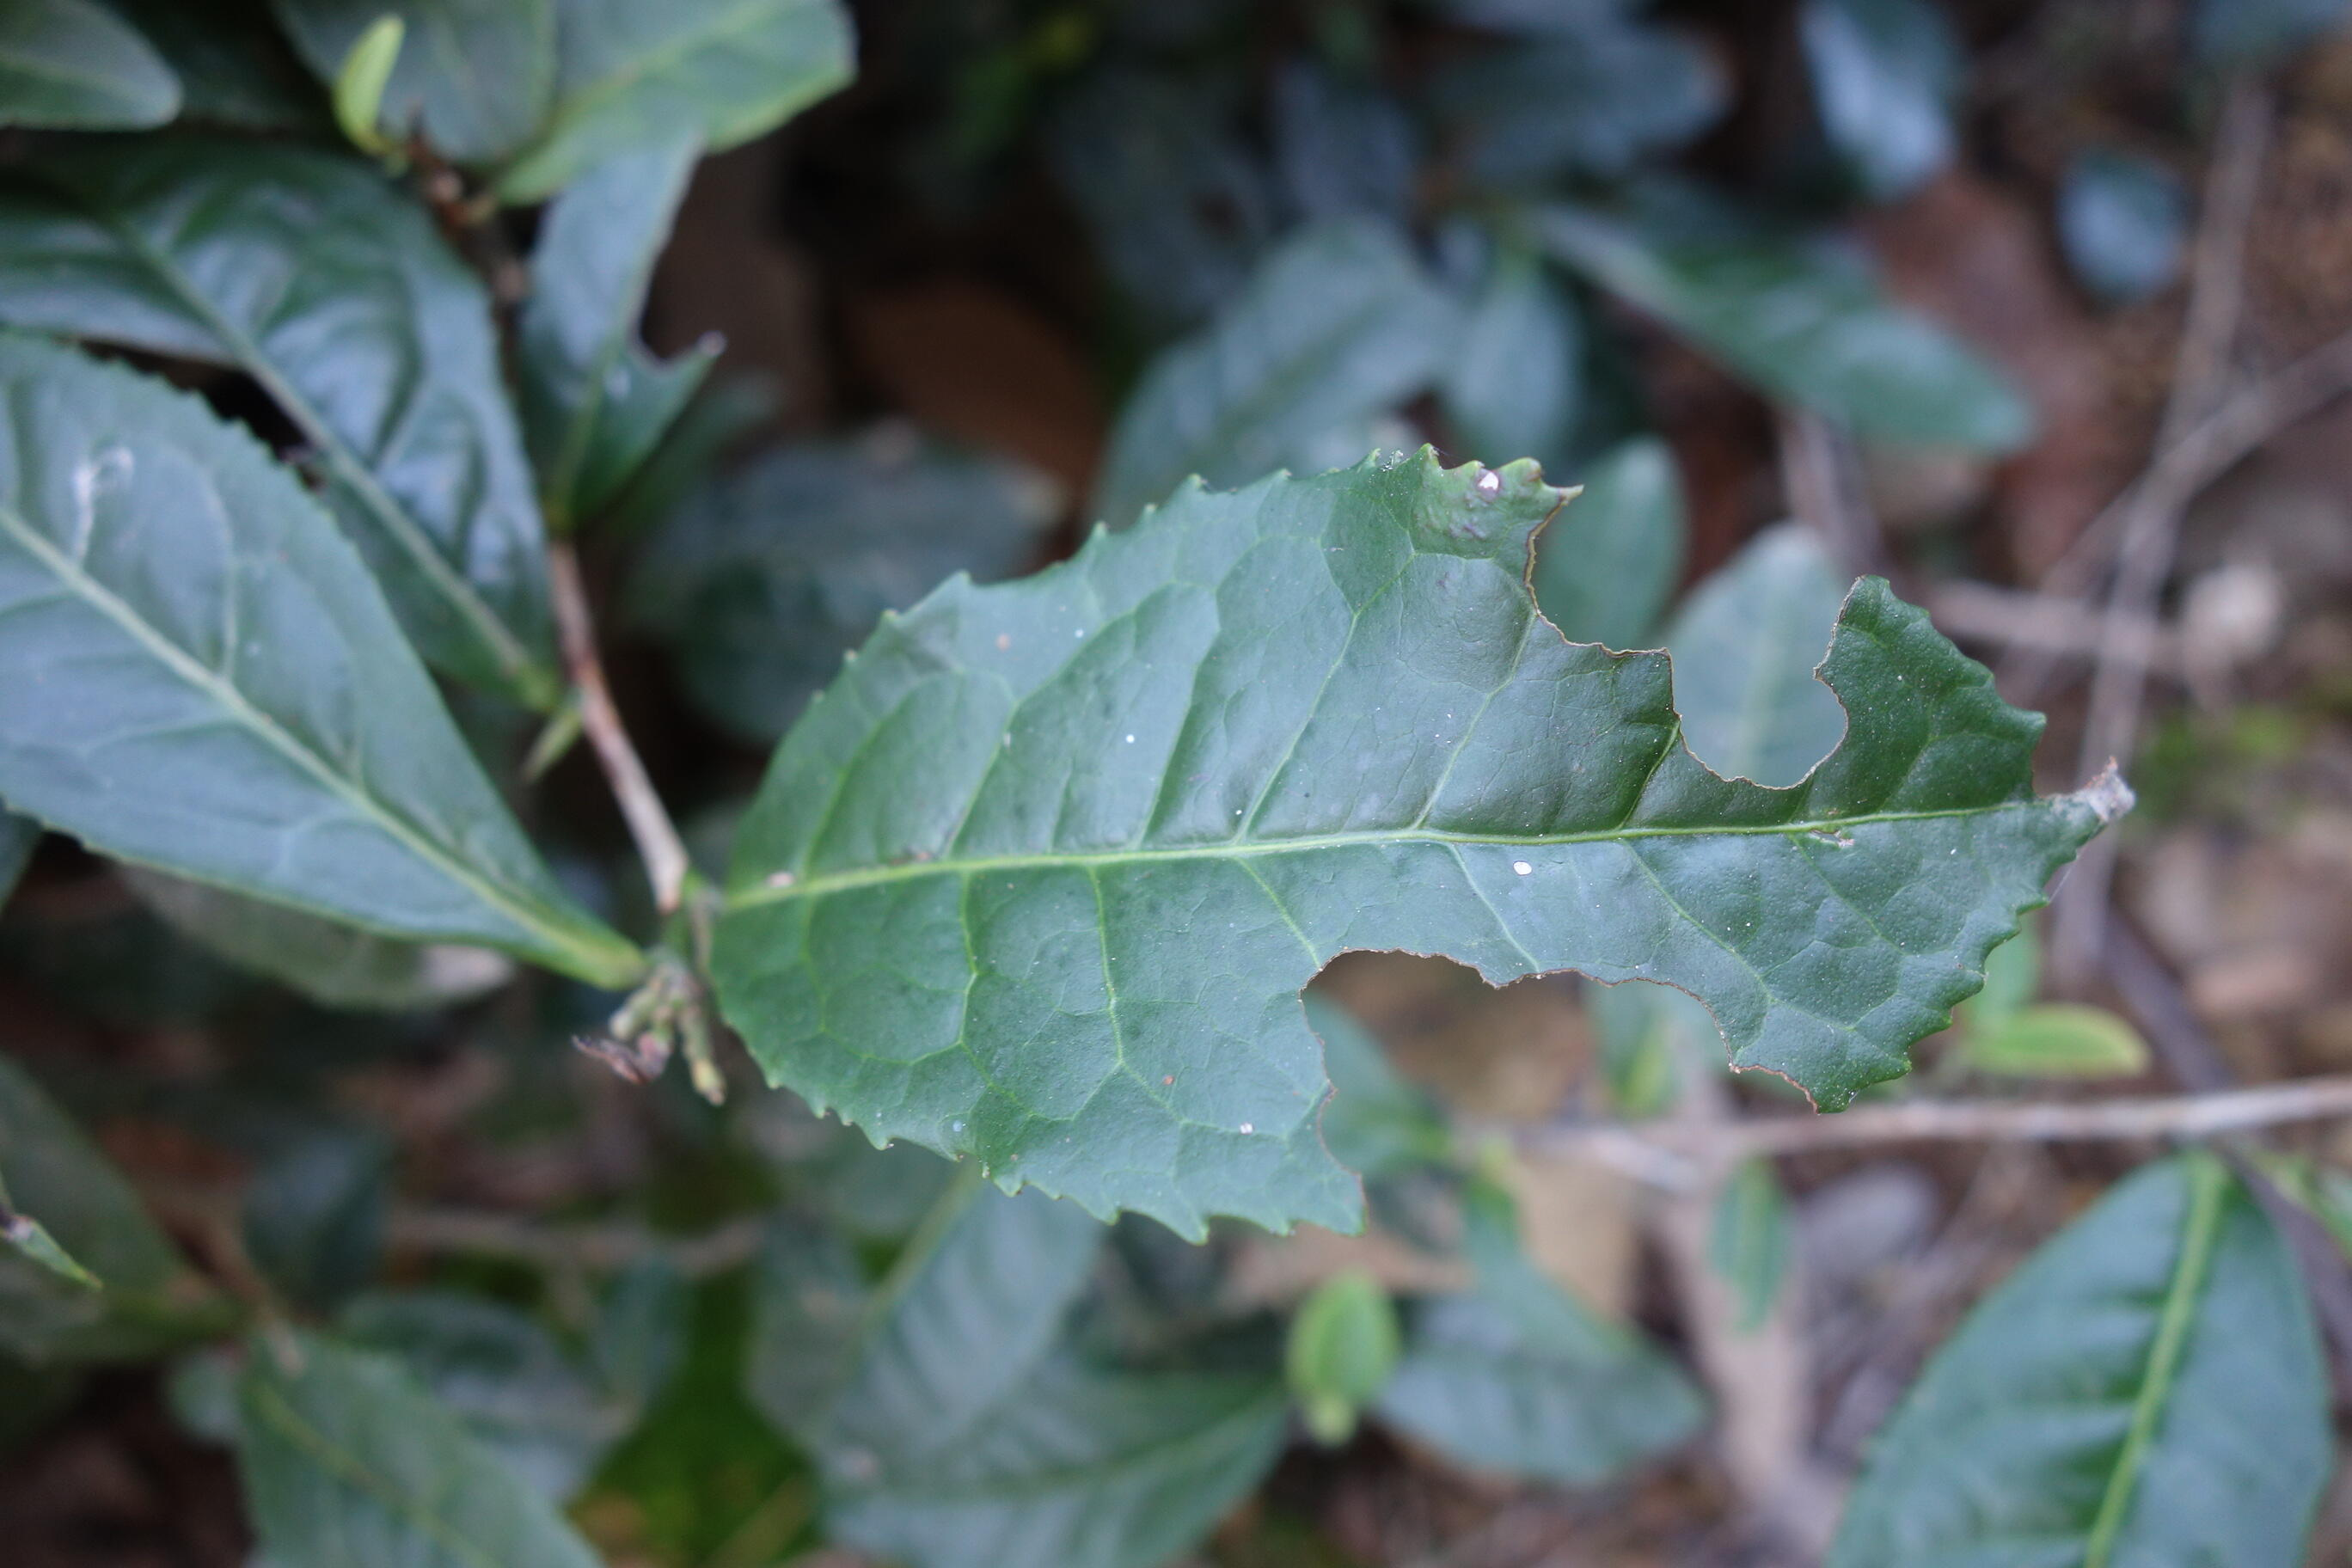chihuo_high: (707, 439, 2138, 1255)
